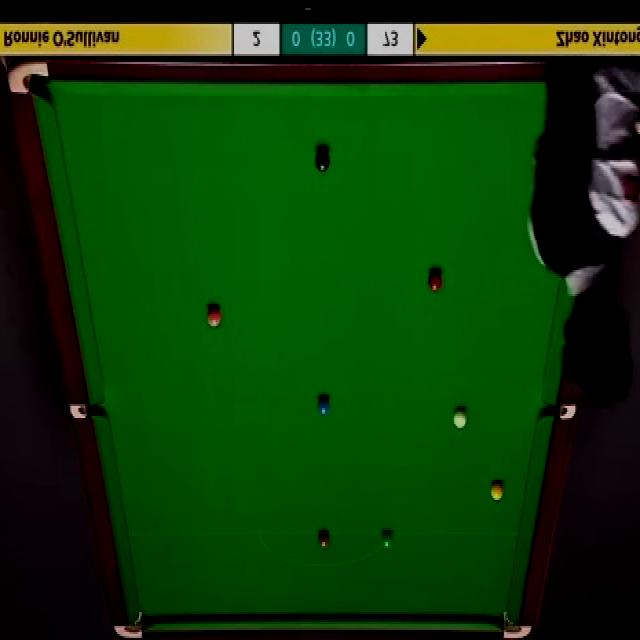pocket: (7, 58, 50, 98), (499, 608, 532, 640), (114, 612, 143, 638), (540, 403, 576, 422), (67, 402, 105, 418)
